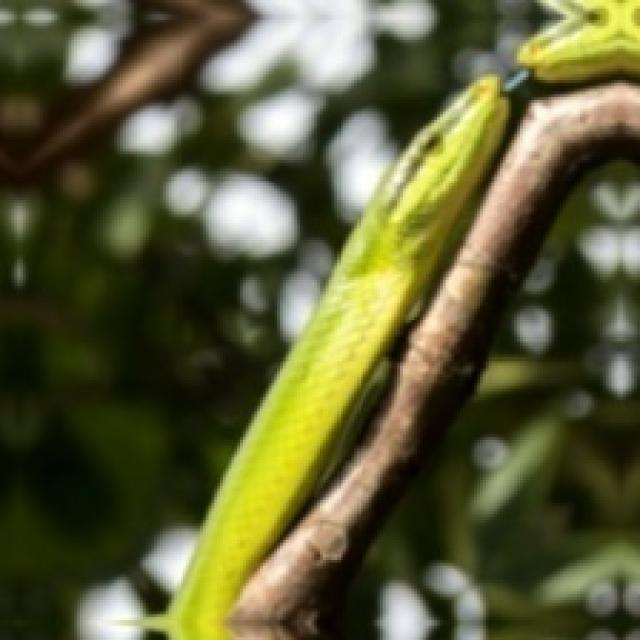red-tailed green ratsnake: (169, 77, 506, 637), (518, 0, 640, 83)
